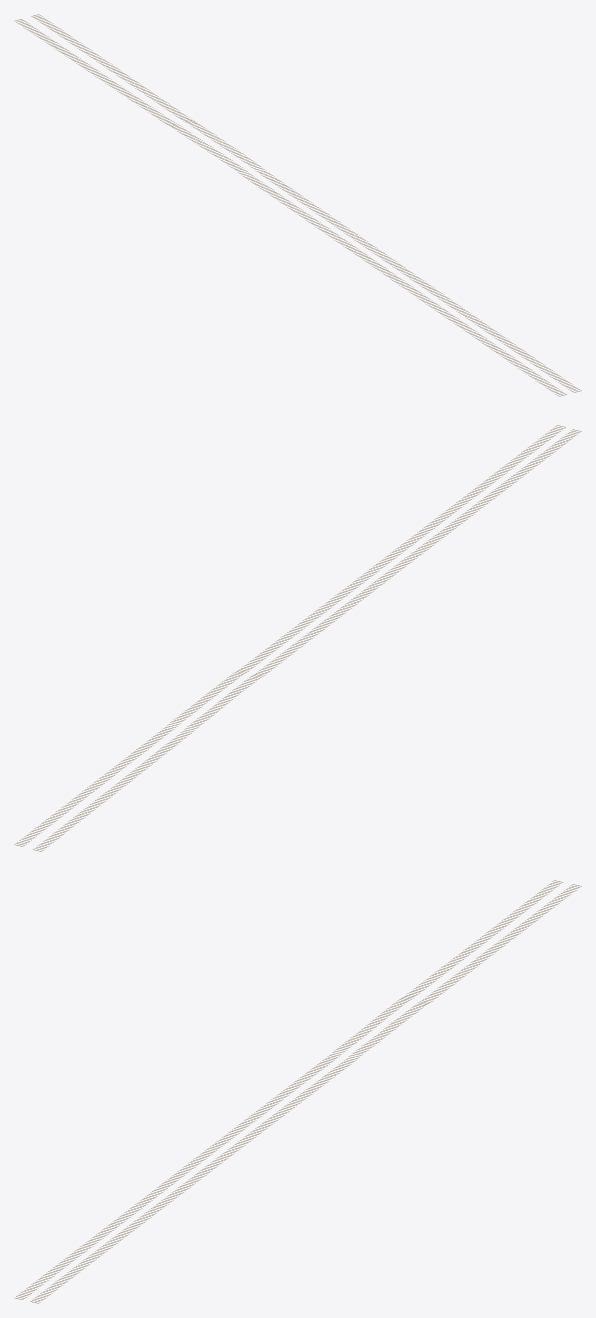
File: c_1629_17837_rail_sleeper.glb
The picture shows the model from 3 angles, top to bottom: view 1: azimuth 30°, elevation 25°; view 2: azimuth 150°, elevation 25°; view 3: azimuth 330°, elevation 25°; orthographic projection. The views are drawn at different scales.
Parts seen in each view (by area): view 1: geometry_0; view 2: geometry_0; view 3: geometry_0.
Boxes of the visible parts, <box> form: geometry_0: <box>14,14,581,396</box>; geometry_0: <box>14,425,581,851</box>; geometry_0: <box>14,880,581,1303</box>.
Size of the model in its own units: 12.87 by 0.5443 by 255.
